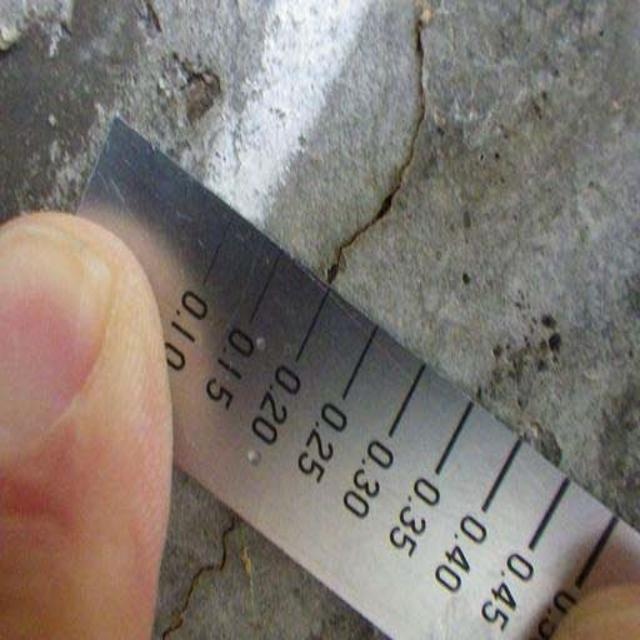crack: (298, 12, 463, 282), (157, 501, 243, 640)
